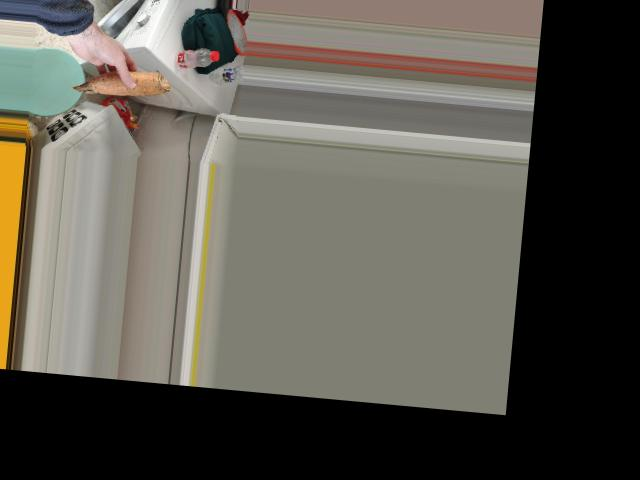sweet_potato: (72, 64, 167, 107)
